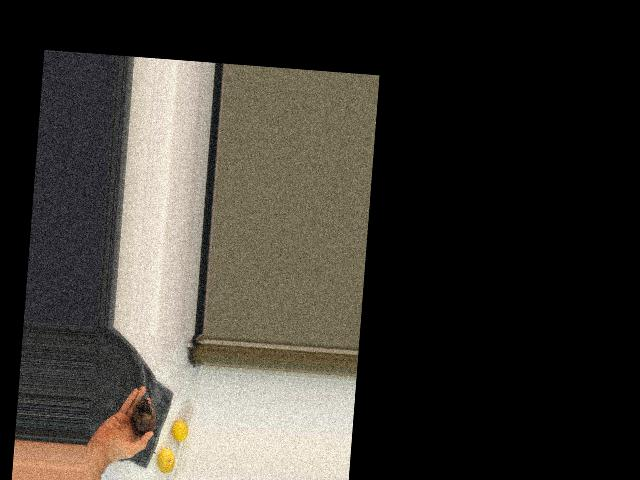beet: (128, 398, 160, 454)
